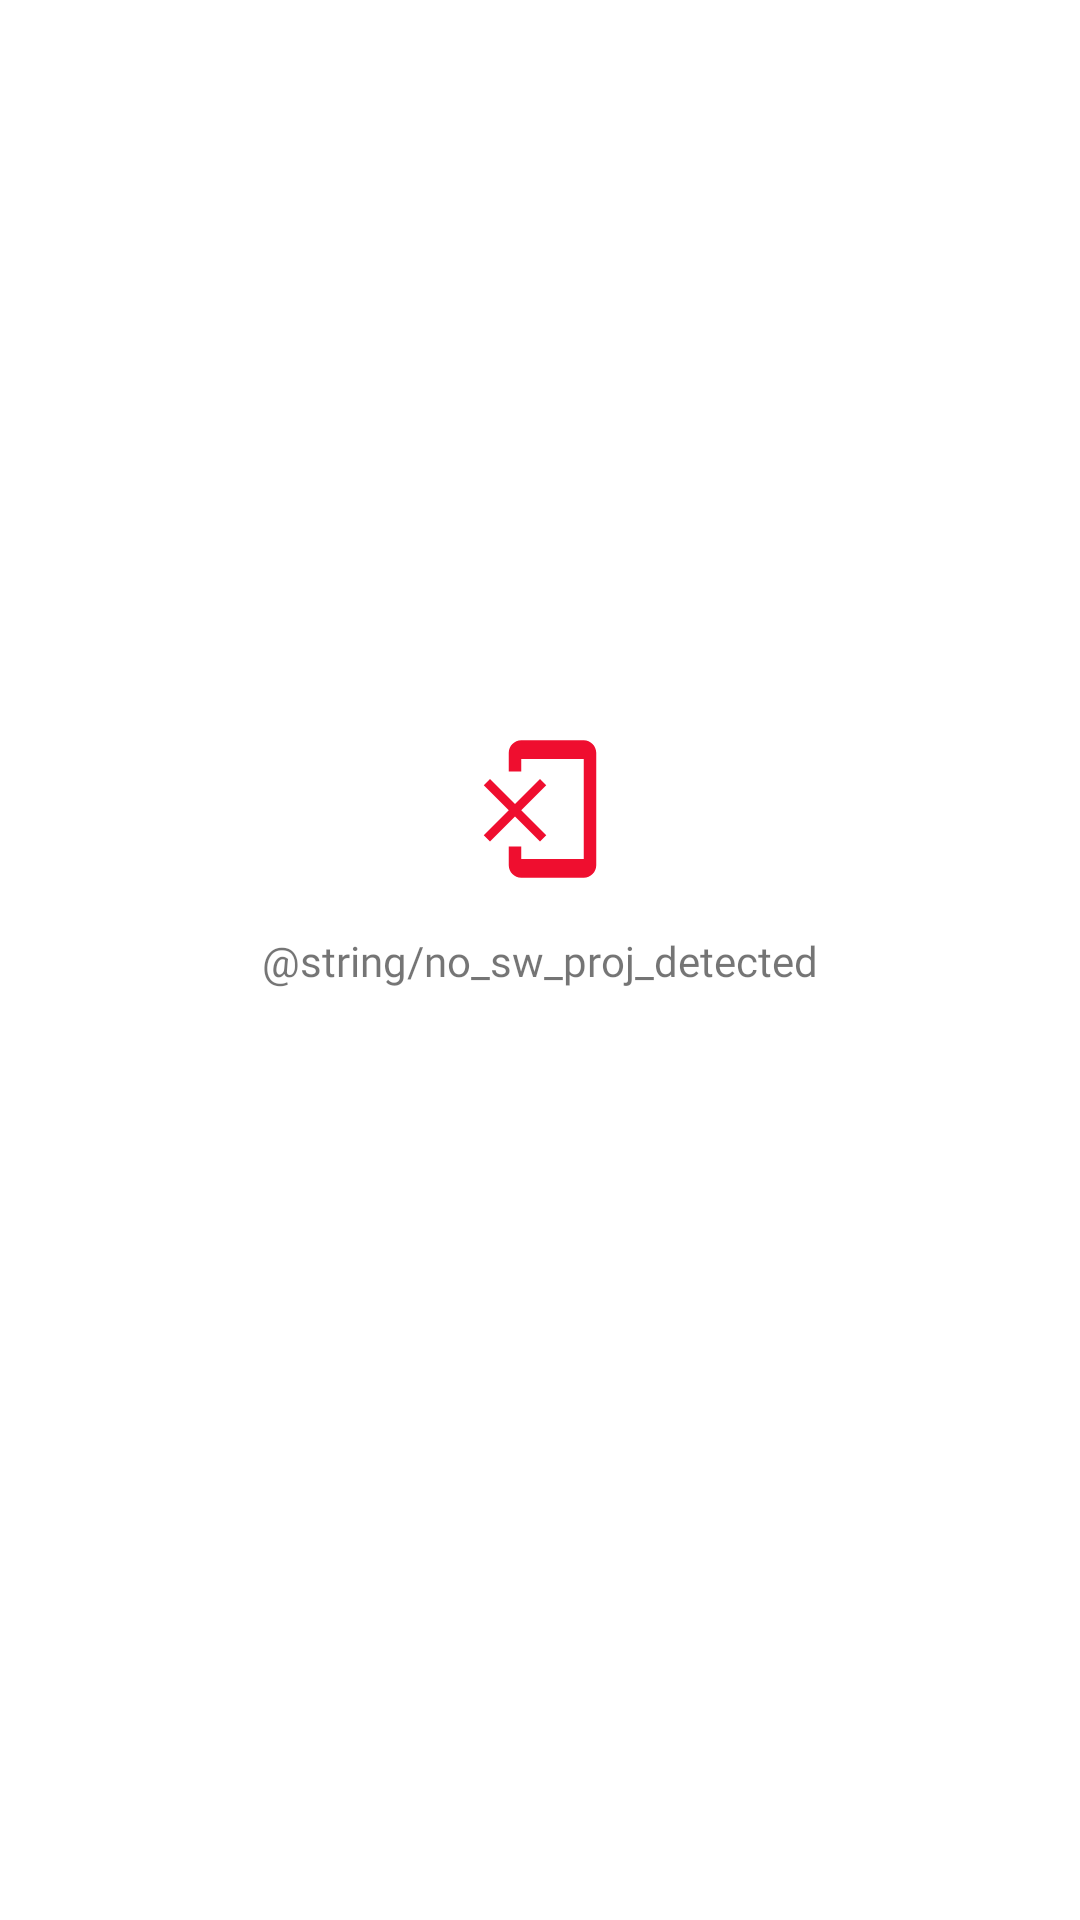

Icons on this 1080*1920 Android screen, each with the point to tap as point (x, y):
phone: point (540, 809)
